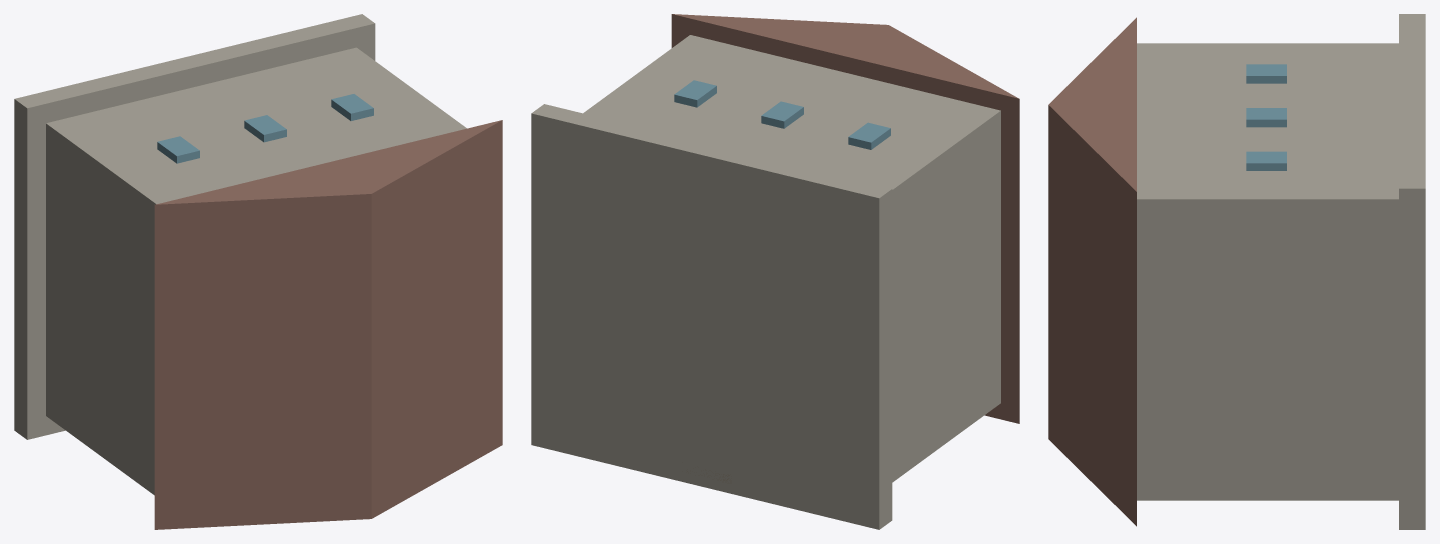
Rendered from AGE_II_residential.glb.
The picture shows the model from 3 angles, left to right: view 1: azimuth 30°, elevation 25°; view 2: azimuth 150°, elevation 25°; view 3: azimuth 270°, elevation 25°; orthographic projection. The views are drawn at different scales.
Visible parts, largest first — view 1: world; view 2: world; view 3: world.
Part boxes in pixels (x1,y1,x2,y2): world: [14, 14, 502, 529]; world: [531, 14, 1019, 529]; world: [1048, 14, 1425, 529].
Bounding box in the file's own units: 5.6 × 5.1 × 5.11.
